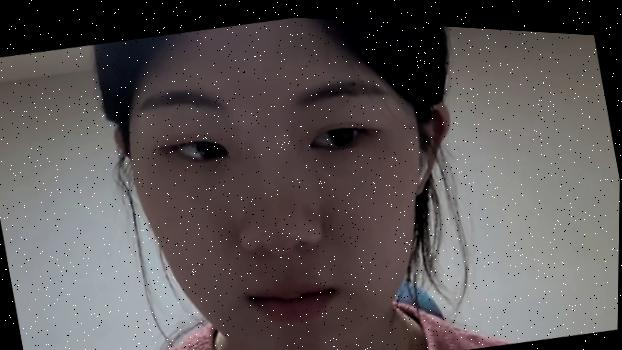eye: (196, 130, 229, 161), (329, 117, 357, 145)
iris: (171, 130, 230, 166), (307, 116, 362, 150)
